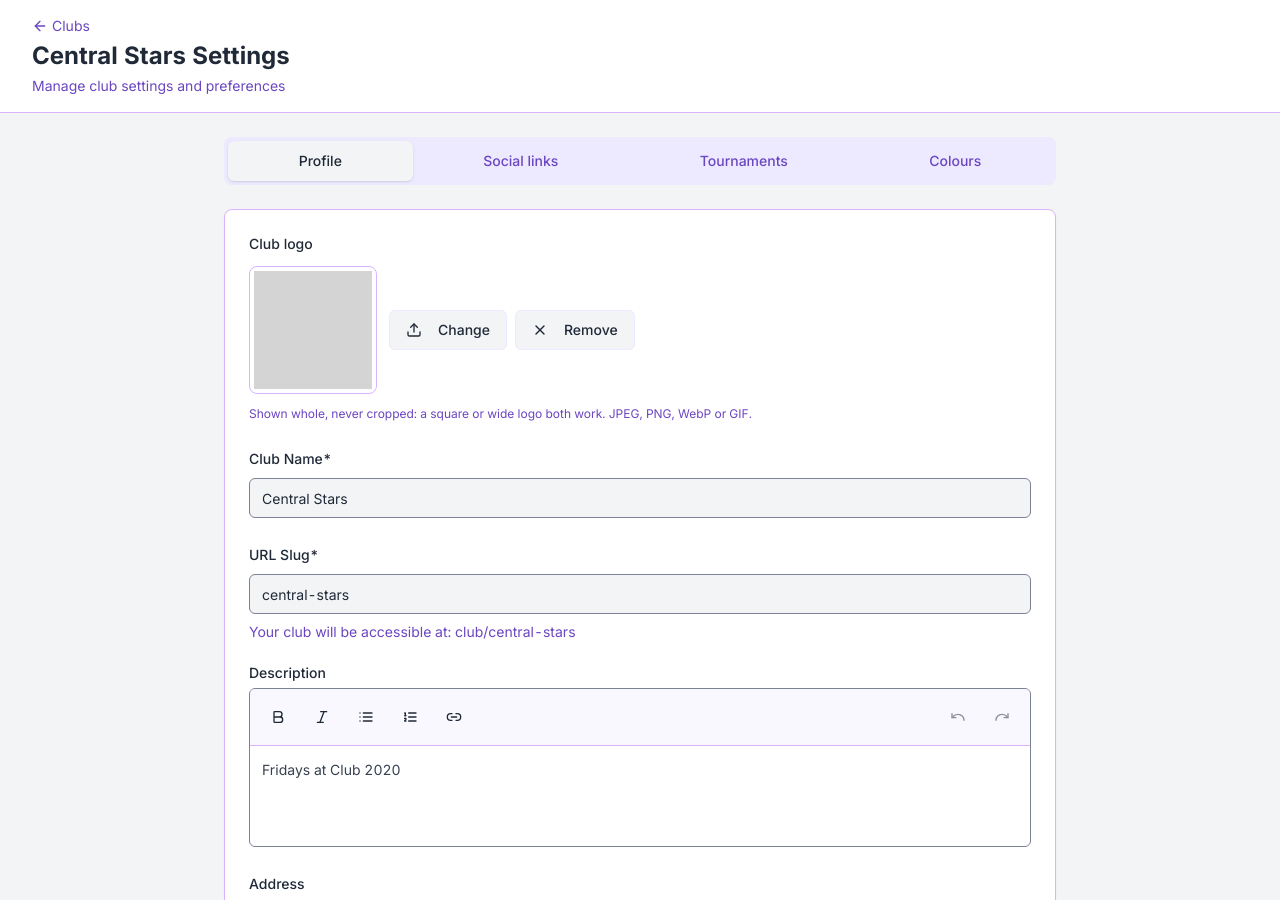
Test case: ClubSettingsPage: Profile › saves the profile fields only, says so, and shows what the server stored
Replace the text in the field labelled "Club Name*" with "Central Stars NZ". click: (640, 498)
box: [249,478,1031,518]
(page scrolled)
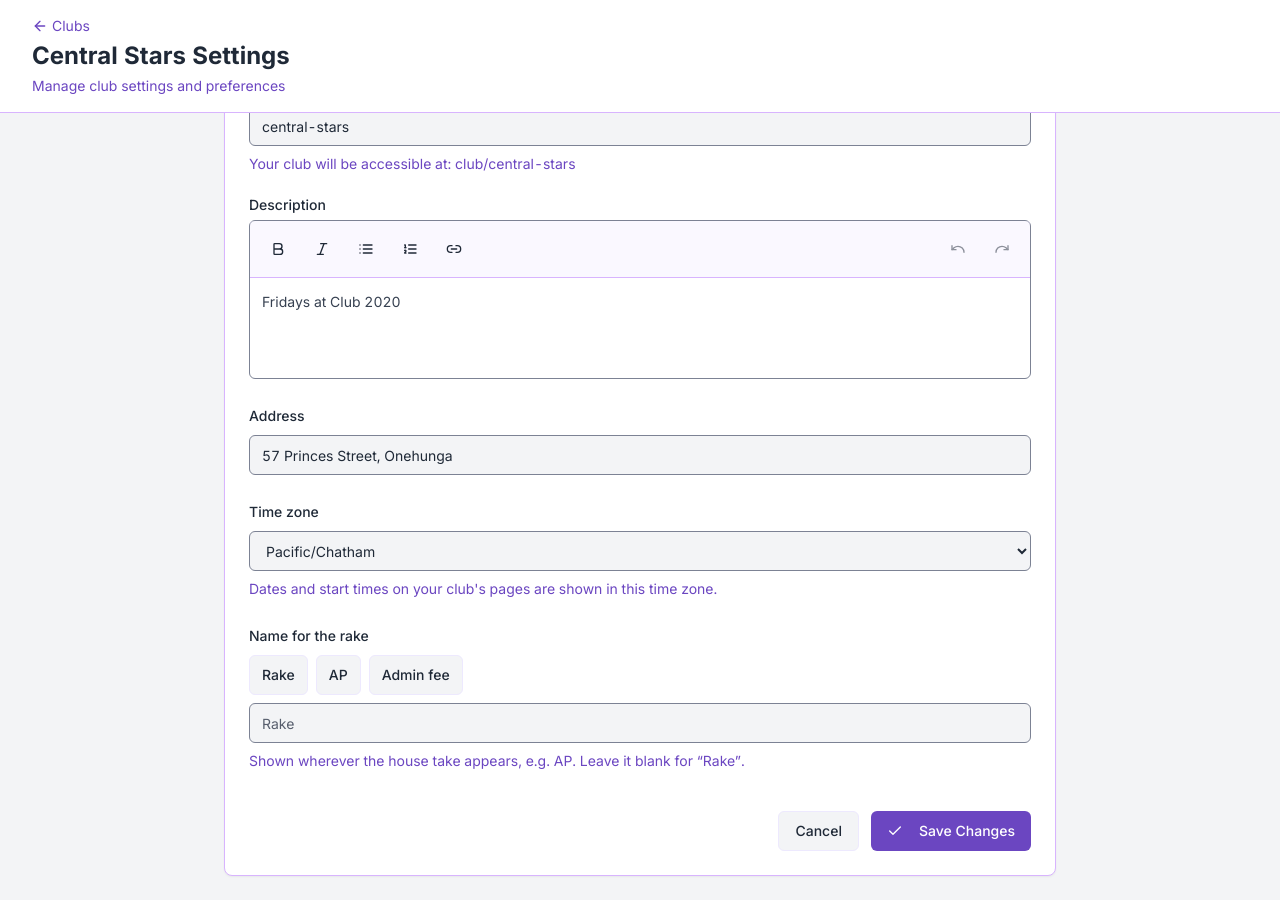
Replace the text in the field labelled "Address" with "Club 2020, Onehunga". click: (640, 455)
box: [249,435,1031,475]
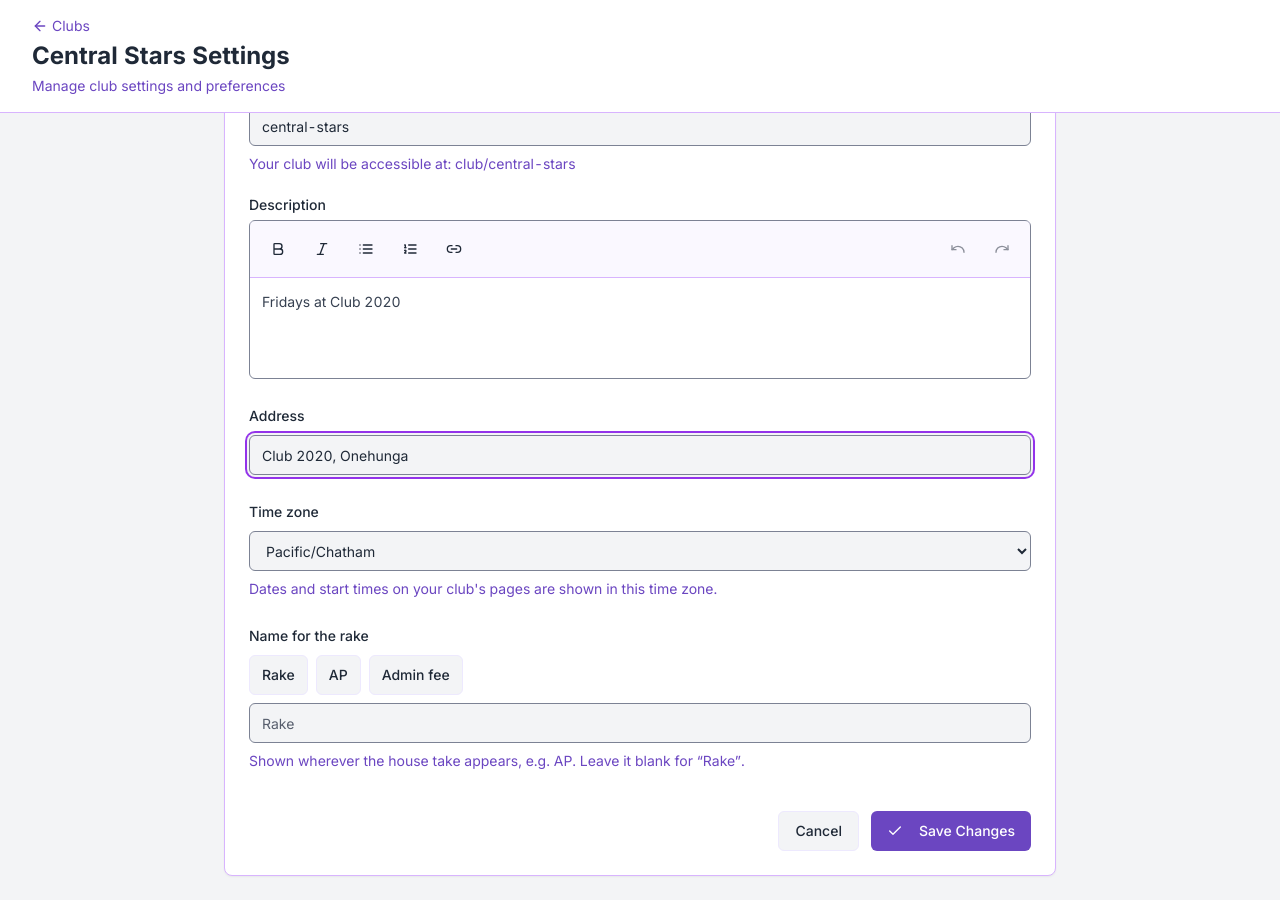
Select "Pacific/Auckland" in the dropdown labelled "Time zone". click: (640, 551)
box: [249,531,1031,571]
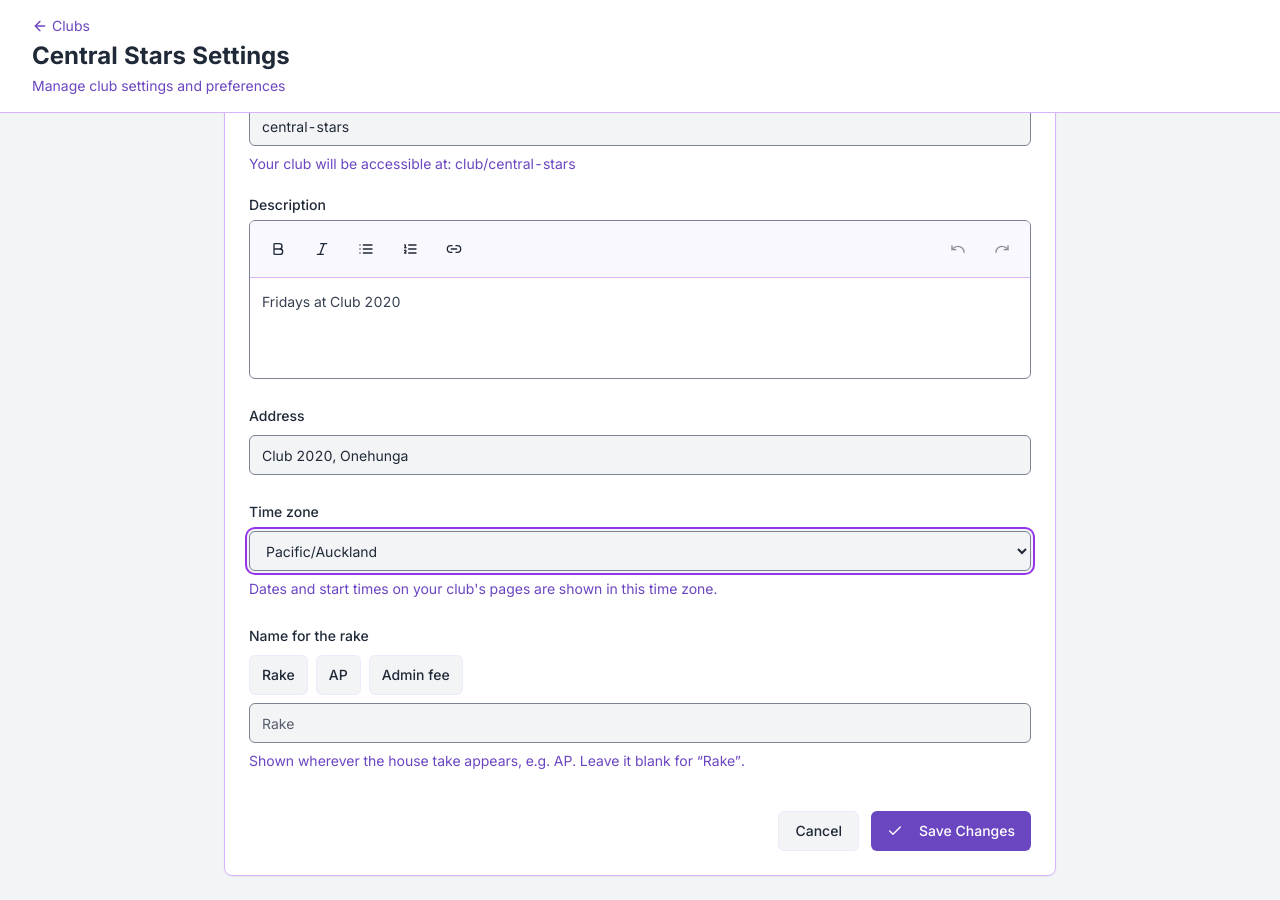
Click the button "Save Changes". click: (951, 831)
box: [871,811,1031,851]
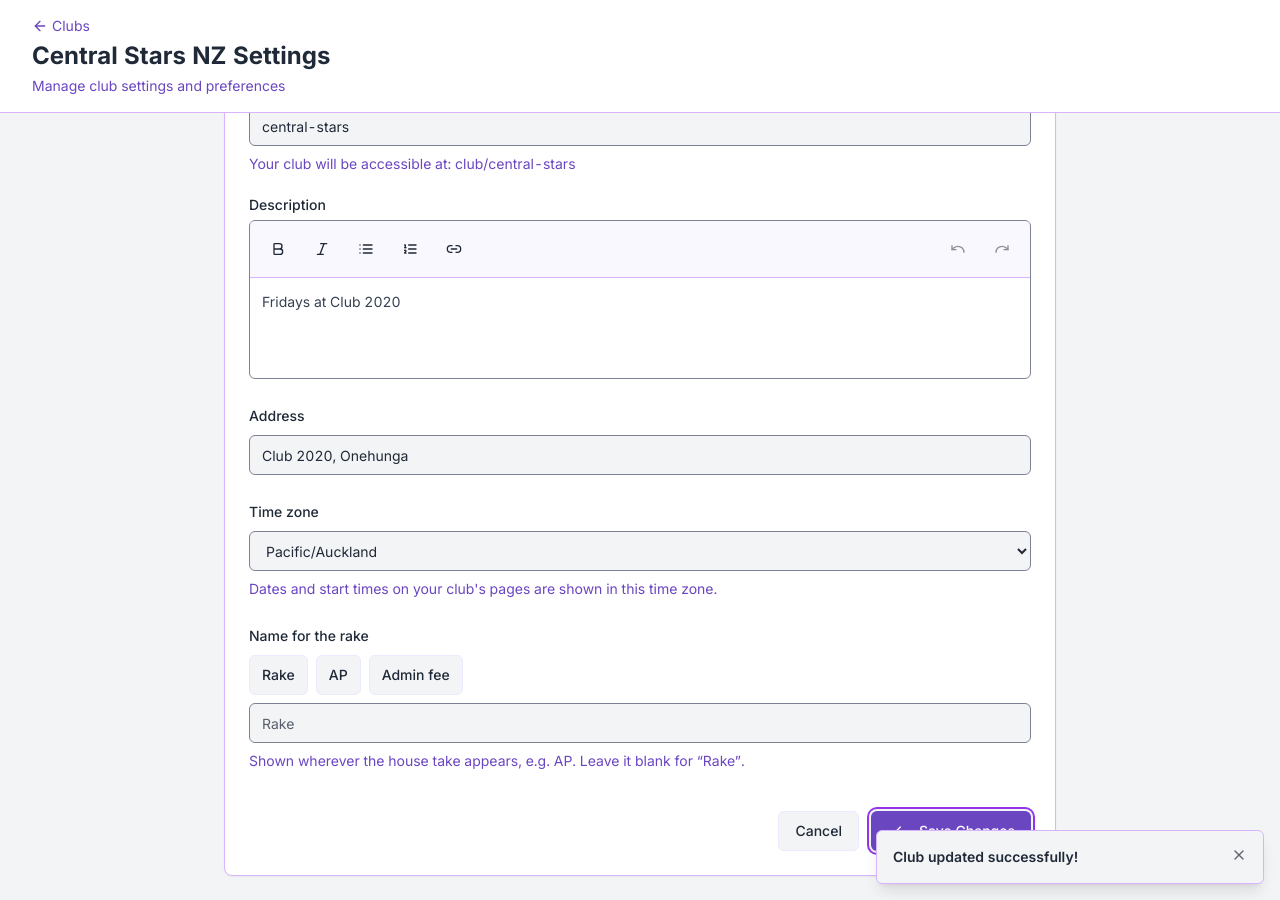
expect the text "Club updated successfully!" is shown: met, box [893,848,1078,865]
expect the heading "Central Stars NZ Settings" is shown: met, box [32,40,330,72]
